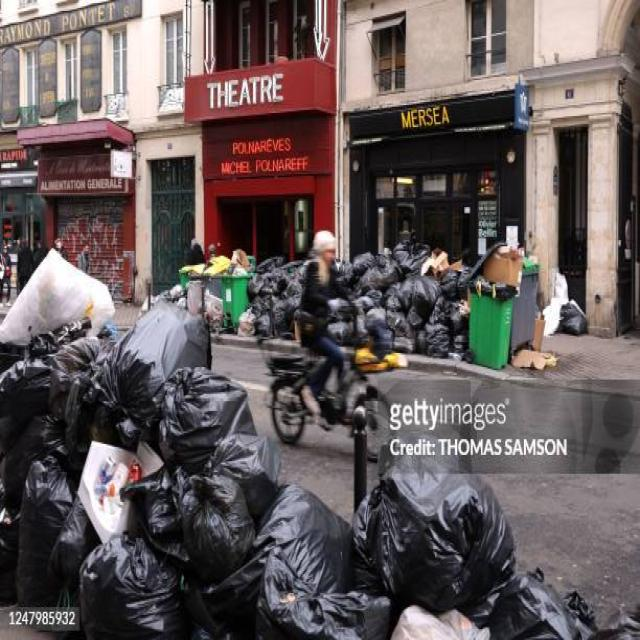cardboard: (486, 249, 530, 298), (190, 250, 260, 278)
trash: (15, 281, 276, 605), (320, 483, 555, 637), (347, 248, 450, 328)
